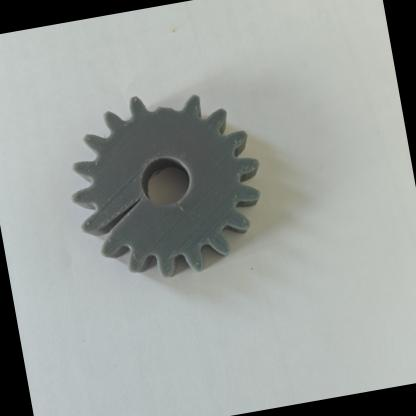defect: (56, 170, 180, 273), (103, 46, 212, 156)
gear: (23, 35, 294, 340)
